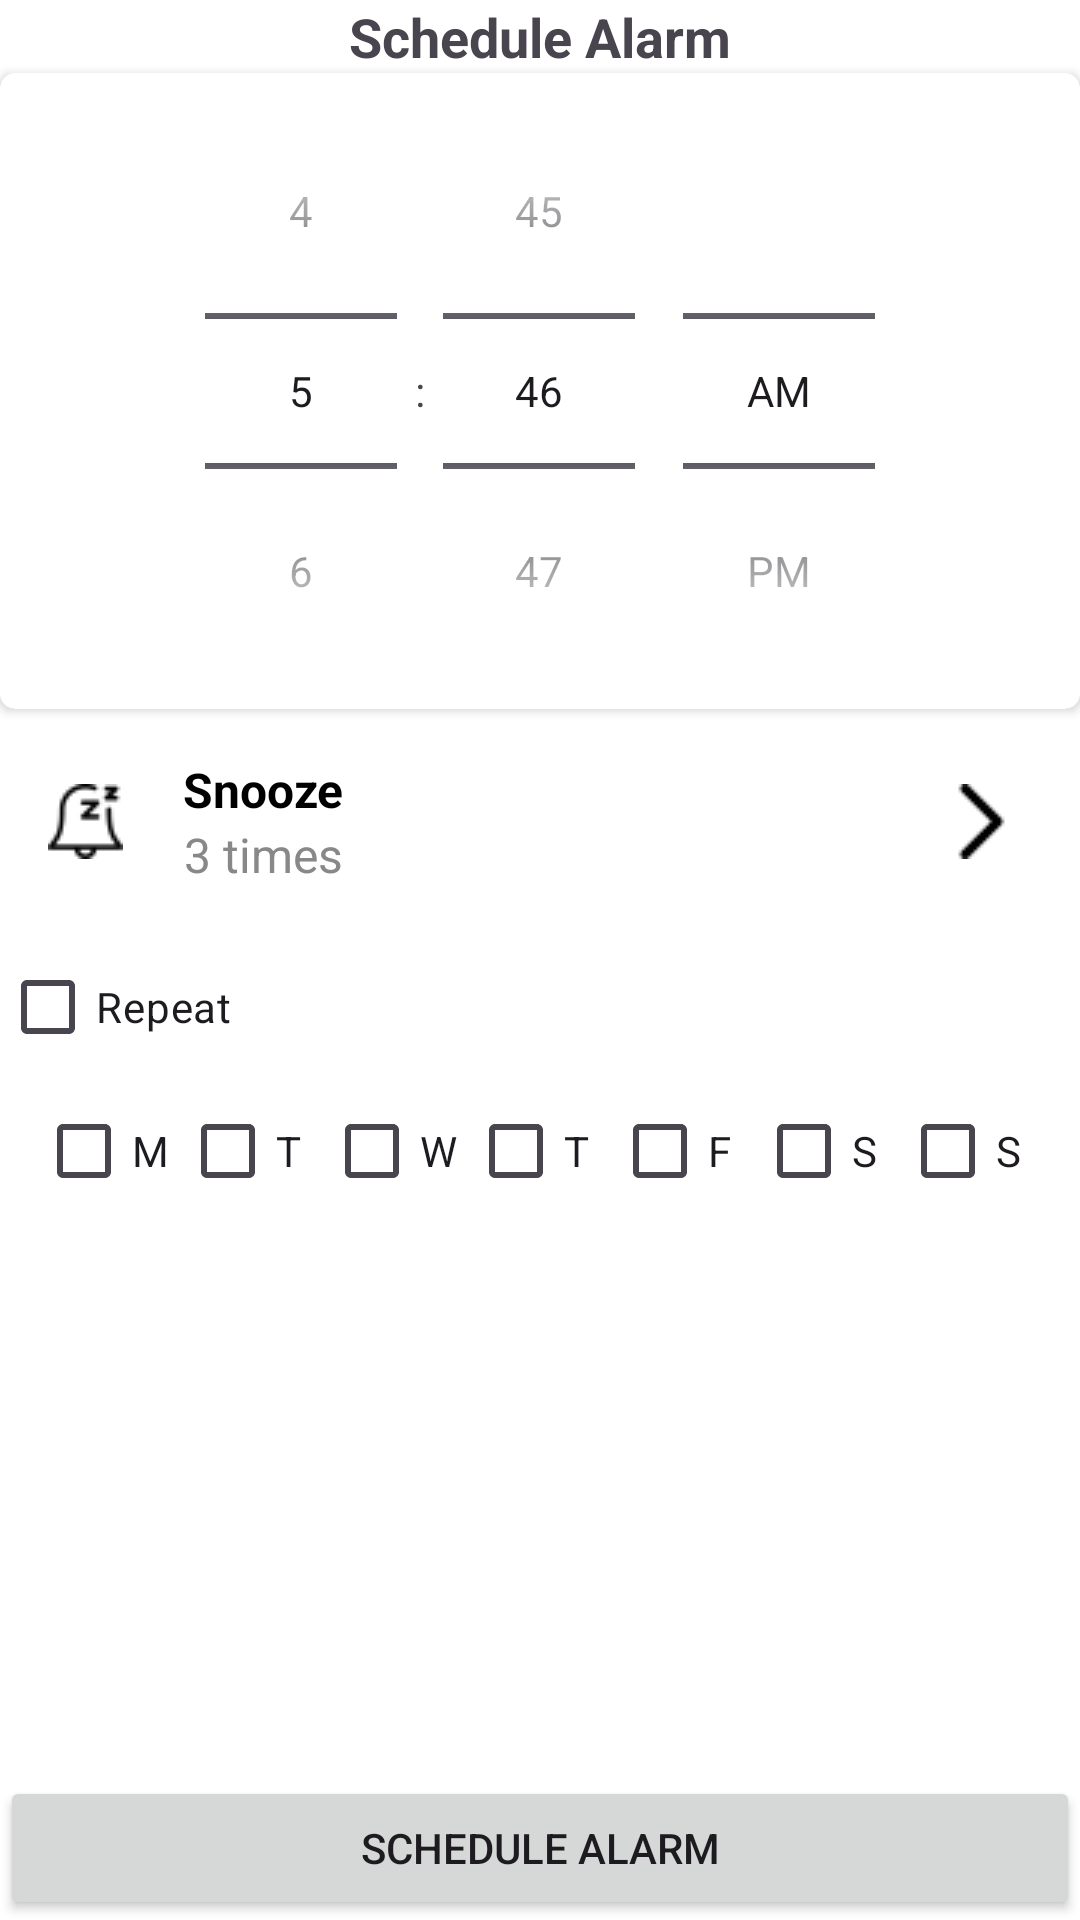

Locate icon controls on the screen. Image size 1080x1920, boxes as (x1, y1, x2, y2).
next: (958, 784, 1005, 859)
